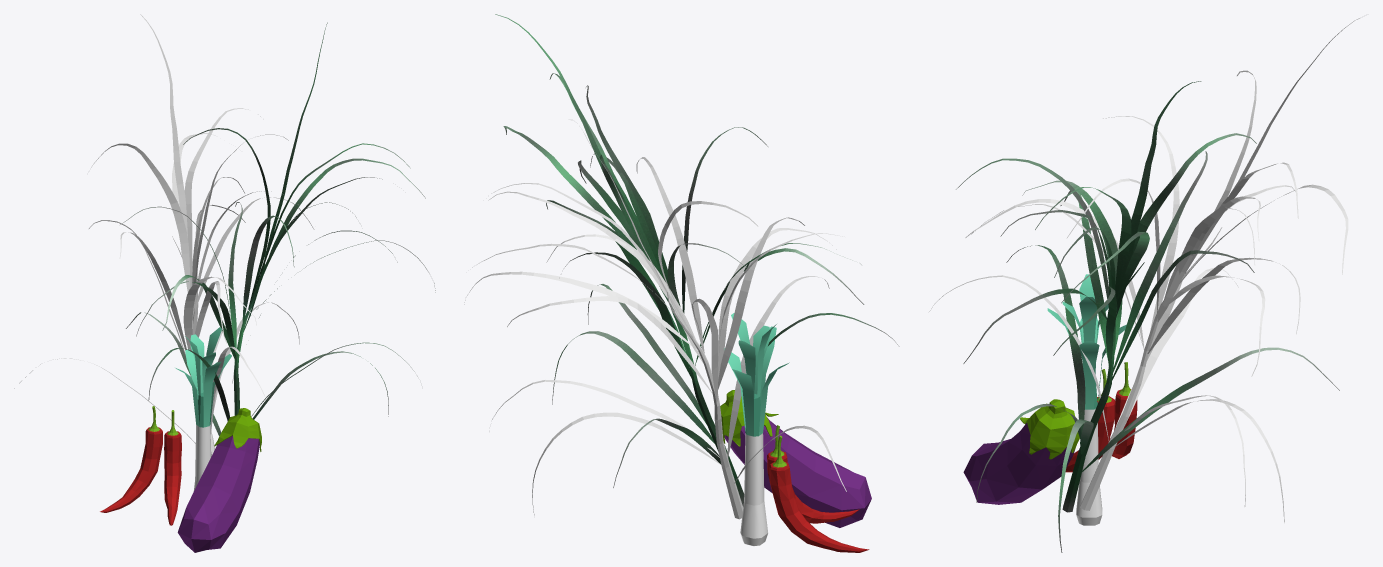
Rendered from vegeteble.fbx.
3 views of the same model, side by side, from view 1: azimuth 30°, elevation 25°; view 2: azimuth 150°, elevation 25°; view 3: azimuth 270°, elevation 25° (orthographic). The views are drawn at different scales.
Visible parts, largest first — view 1: Node.002; view 2: Node.002; view 3: Node.002.
Part boxes in pixels (x1,y1,x2,y2): Node.002: (14,14,435,552); Node.002: (464,14,899,552); Node.002: (929,18,1359,552).
Size of the model in its own units: 169 by 199 by 144.
9 materials, 1 textured.
